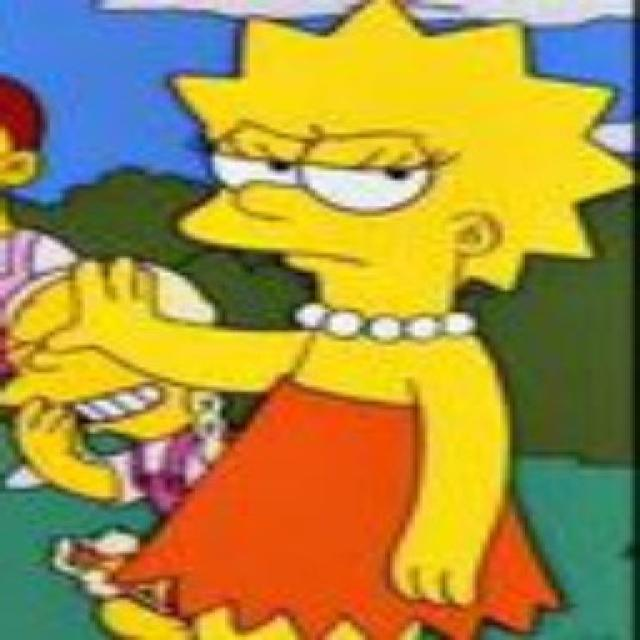Lisa Simpson: (162, 0, 640, 340)
